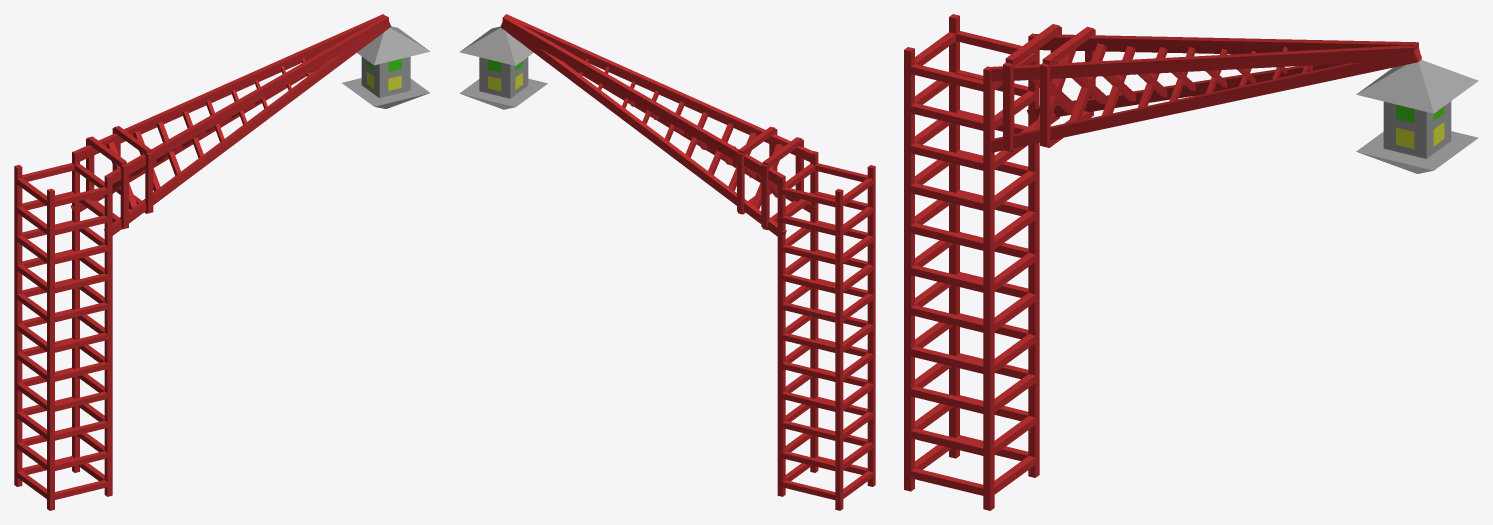
The model's file is Light-tower-divermon-lake.fbx.
The picture shows the model from 3 angles, left to right: view 1: azimuth 30°, elevation 25°; view 2: azimuth 150°, elevation 25°; view 3: azimuth 330°, elevation 25°; orthographic projection. The views are drawn at different scales.
Visible parts, largest first — view 1: Cube.029, Cube.046, Plane.001; view 2: Cube.029, Cube.046, Plane.001; view 3: Cube.029, Cube.046, Plane.001.
Boxes of the visible parts, <box> form: Cube.029: <box>14,151,112,510</box>; Cube.046: <box>70,14,391,235</box>; Plane.001: <box>342,26,429,108</box>; Cube.029: <box>777,151,875,510</box>; Cube.046: <box>500,14,817,238</box>; Plane.001: <box>459,26,547,109</box>; Cube.029: <box>904,14,1039,510</box>; Cube.046: <box>989,24,1421,152</box>; Plane.001: <box>1356,60,1478,173</box>.
Size of the model in its own units: 0.1353 by 0.134 by 0.023.
